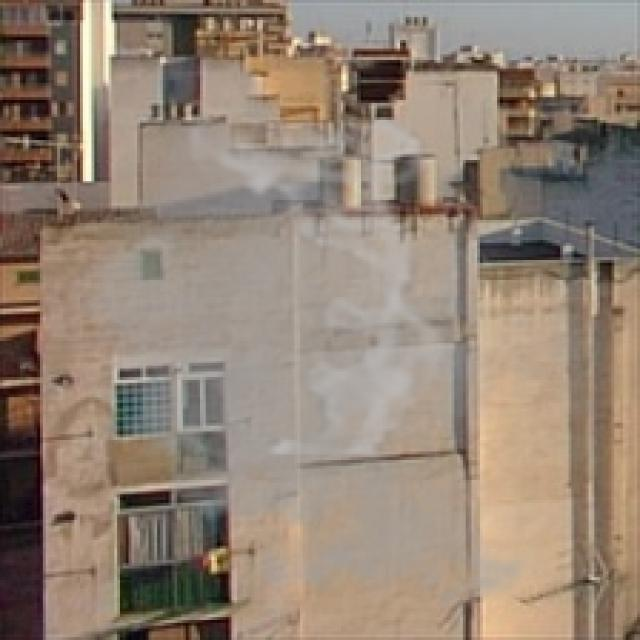Smoke: (49, 103, 588, 626)
